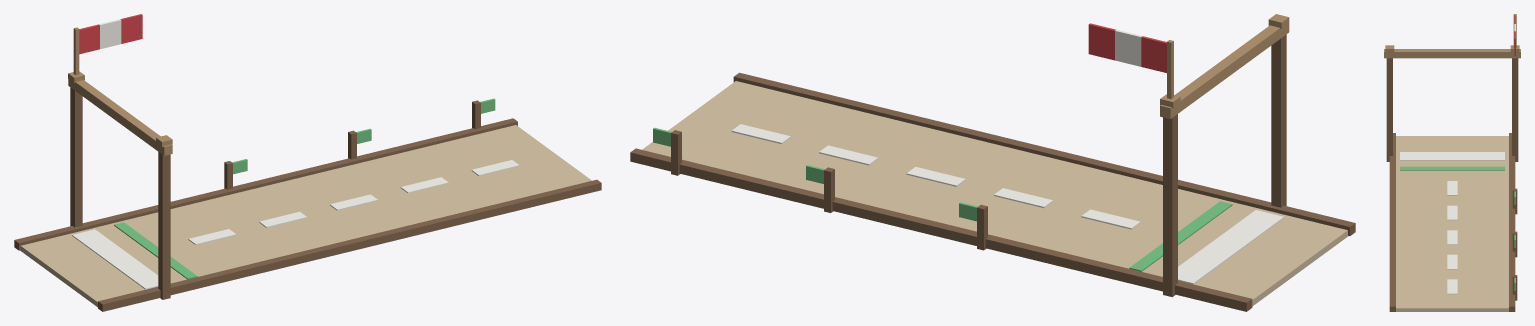
Rendered from ENV_N1_LineaSalida.fbx.
3 views of the same model, side by side, from view 1: azimuth 30°, elevation 25°; view 2: azimuth 150°, elevation 25°; view 3: azimuth 270°, elevation 25° (orthographic). The views are drawn at different scales.
Visible parts, largest first — view 1: ENV_N1_LineaSalida; view 2: ENV_N1_LineaSalida; view 3: ENV_N1_LineaSalida.
Boxes of the visible parts, x1,y1,x2,y2 form: ENV_N1_LineaSalida: (14, 14, 601, 311); ENV_N1_LineaSalida: (630, 14, 1355, 311); ENV_N1_LineaSalida: (1384, 14, 1520, 311).
Size of the model in its own units: 14.1 by 5.53 by 4.7.
